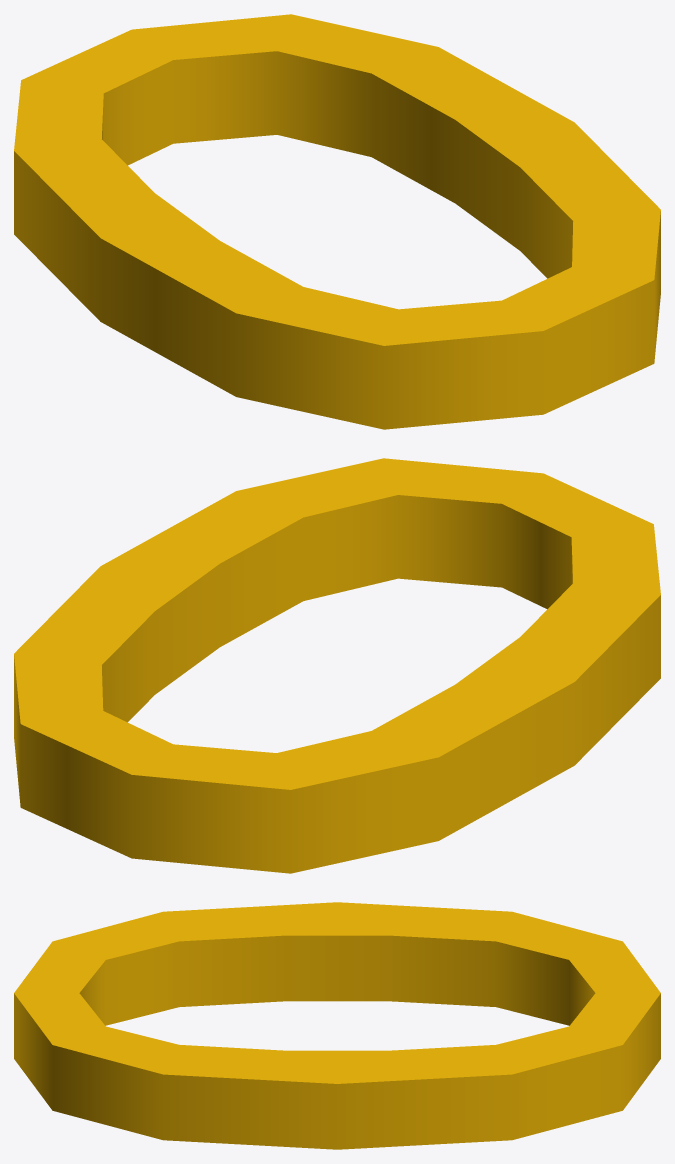
The model's file is Zero.fbx.
3 views of the same model, one above another, from view 1: azimuth 30°, elevation 25°; view 2: azimuth 150°, elevation 25°; view 3: azimuth 270°, elevation 25° (orthographic). The views are drawn at different scales.
Visible parts, largest first — view 1: Zero; view 2: Zero; view 3: Zero.
Boxes of the visible parts, bbox=[...] form: Zero: bbox=[14, 14, 660, 429]; Zero: bbox=[14, 458, 660, 873]; Zero: bbox=[14, 902, 660, 1149].
Bounding box in the file's own units: 0.1489 × 0.0251 × 0.2239.
